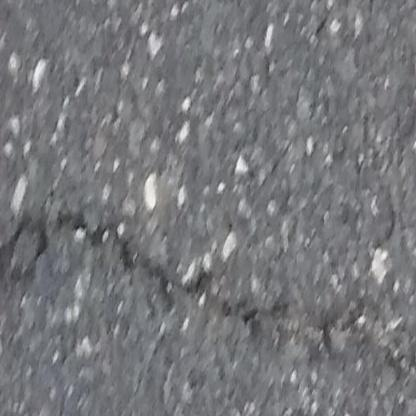Cracks: (0, 209, 416, 390)
